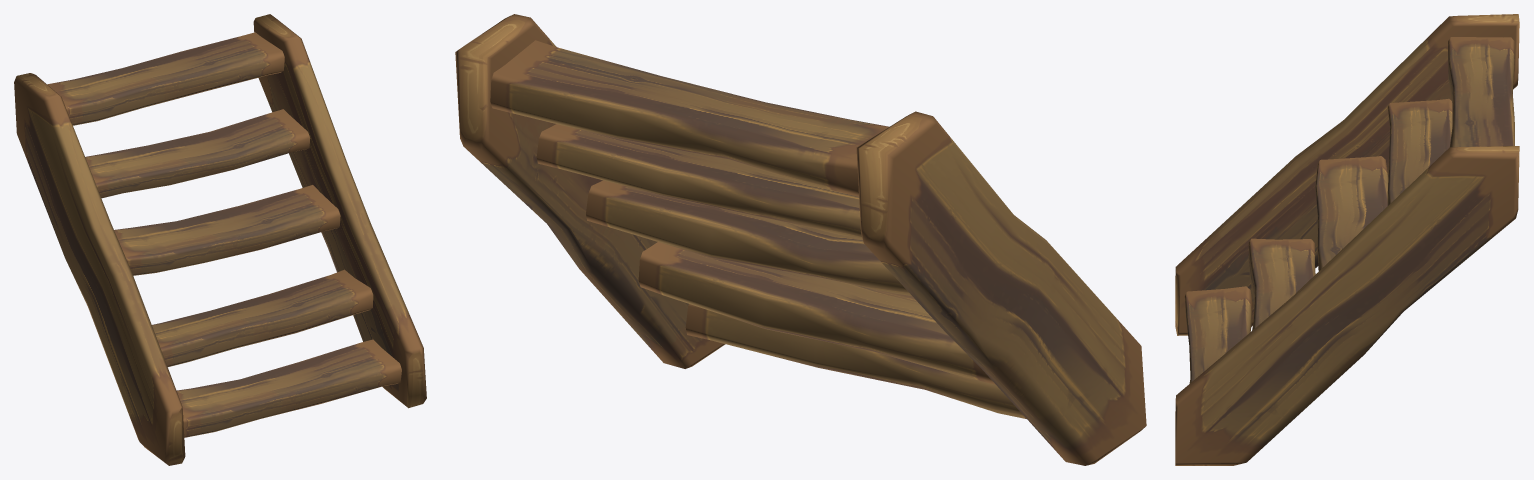
The model's file is SM_MOD_stairs_town_03_02.fbx.
3 renders of one model, left to right at view 1: azimuth 30°, elevation 25°; view 2: azimuth 150°, elevation 25°; view 3: azimuth 270°, elevation 25°, orthographic. The views are drawn at different scales.
Visible parts, largest first — view 1: SM_MOD_stairs_town_03_02_LOD0; view 2: SM_MOD_stairs_town_03_02_LOD0; view 3: SM_MOD_stairs_town_03_02_LOD0.
Boxes of the visible parts, x1,y1,x2,y2 form: SM_MOD_stairs_town_03_02_LOD0: (14,14,426,465); SM_MOD_stairs_town_03_02_LOD0: (455,14,1146,465); SM_MOD_stairs_town_03_02_LOD0: (1175,14,1519,465).
Size of what is drawn, in the model's own units: 98.72 by 101 by 99.9.
